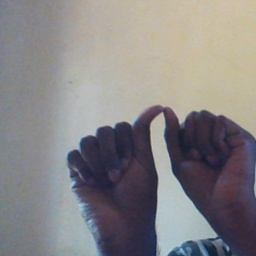A: (65, 103, 255, 228)
